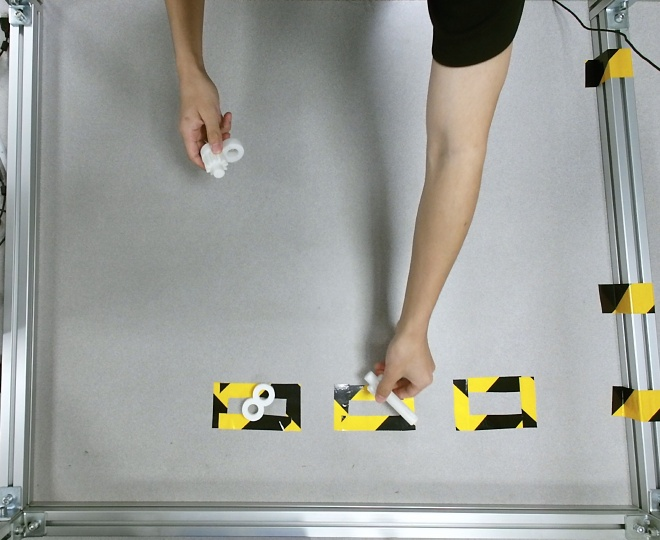stage_2: (200, 139, 243, 178)
